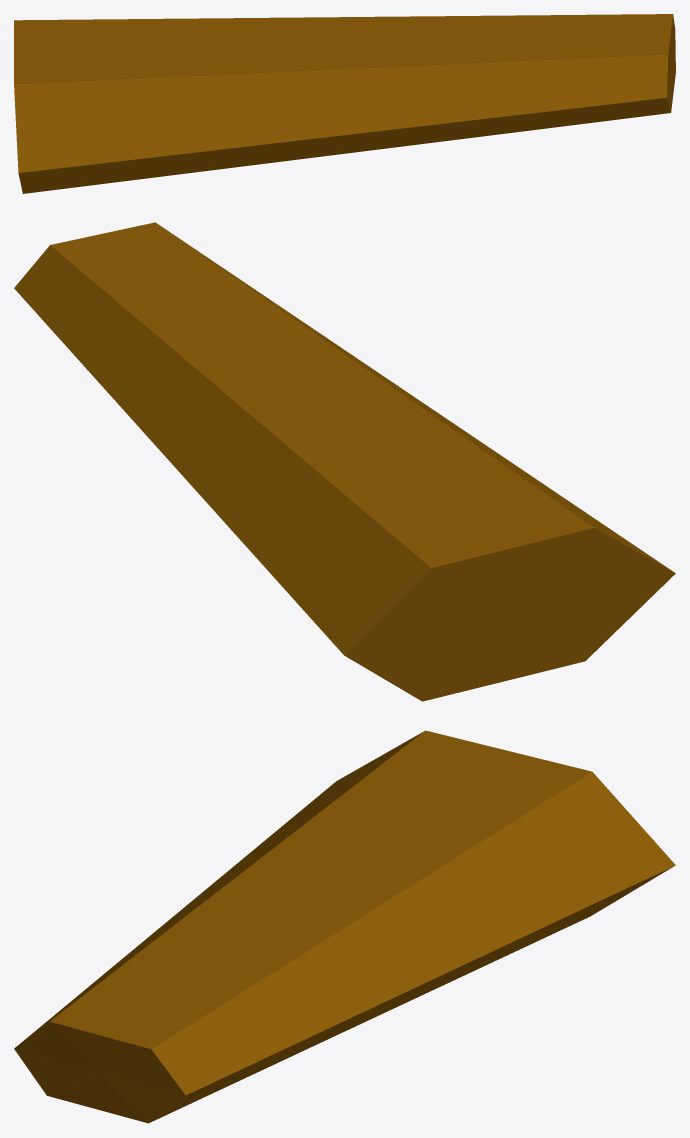
The model's file is Ramita.fbx.
3 views of the same model, one above another, from view 1: azimuth 30°, elevation 25°; view 2: azimuth 150°, elevation 25°; view 3: azimuth 270°, elevation 25° (orthographic). The views are drawn at different scales.
Parts seen in each view (by area): view 1: polySurface2; view 2: polySurface2; view 3: polySurface2.
Boxes of the visible parts, box(x1,y1,x2,y2) form: polySurface2: box(14, 14, 675, 193); polySurface2: box(14, 222, 675, 701); polySurface2: box(14, 730, 675, 1123).
Size of the model in its own units: 988 by 201 by 752.
